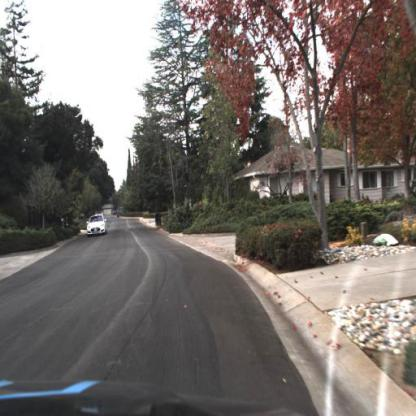car: (87, 214, 108, 237)
